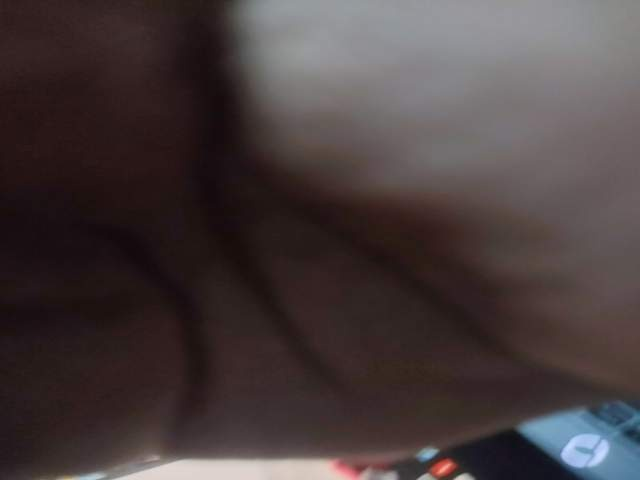pothole: (288, 311, 388, 391)
